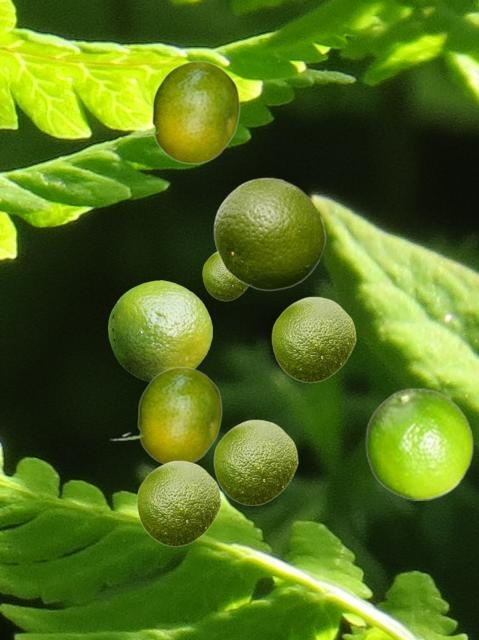calamansi: (213, 176, 325, 290), (365, 387, 473, 499), (122, 60, 239, 163), (109, 366, 221, 463), (108, 280, 211, 382), (271, 296, 355, 382), (213, 419, 297, 505), (136, 460, 220, 546), (202, 252, 248, 300)
